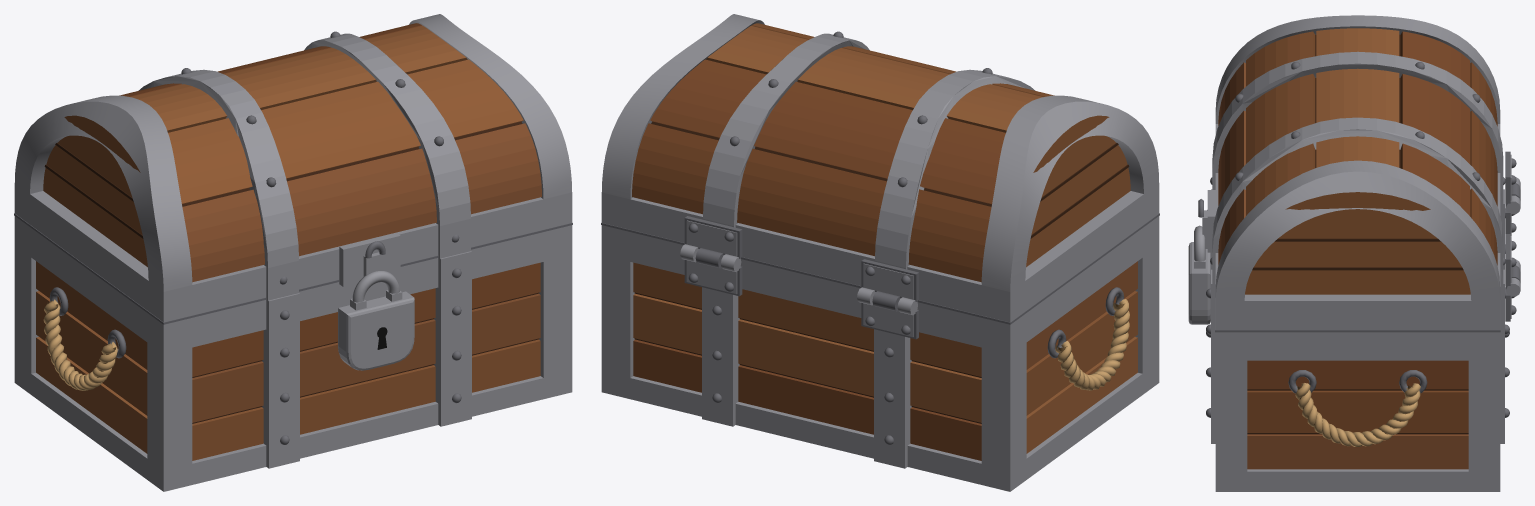
File: 07-chest.glb
The picture shows the model from 3 angles, left to right: view 1: azimuth 30°, elevation 25°; view 2: azimuth 150°, elevation 25°; view 3: azimuth 270°, elevation 25°; orthographic projection. The views are drawn at different scales.
Visible parts, largest first — view 1: chest; view 2: chest; view 3: chest.
Part boxes in pixels (<box>): chest: <box>14,14,572,491</box>; chest: <box>601,14,1159,491</box>; chest: <box>1188,15,1520,491</box>.
Size of the model in its own units: 1.9 by 1.28 by 1.26.
